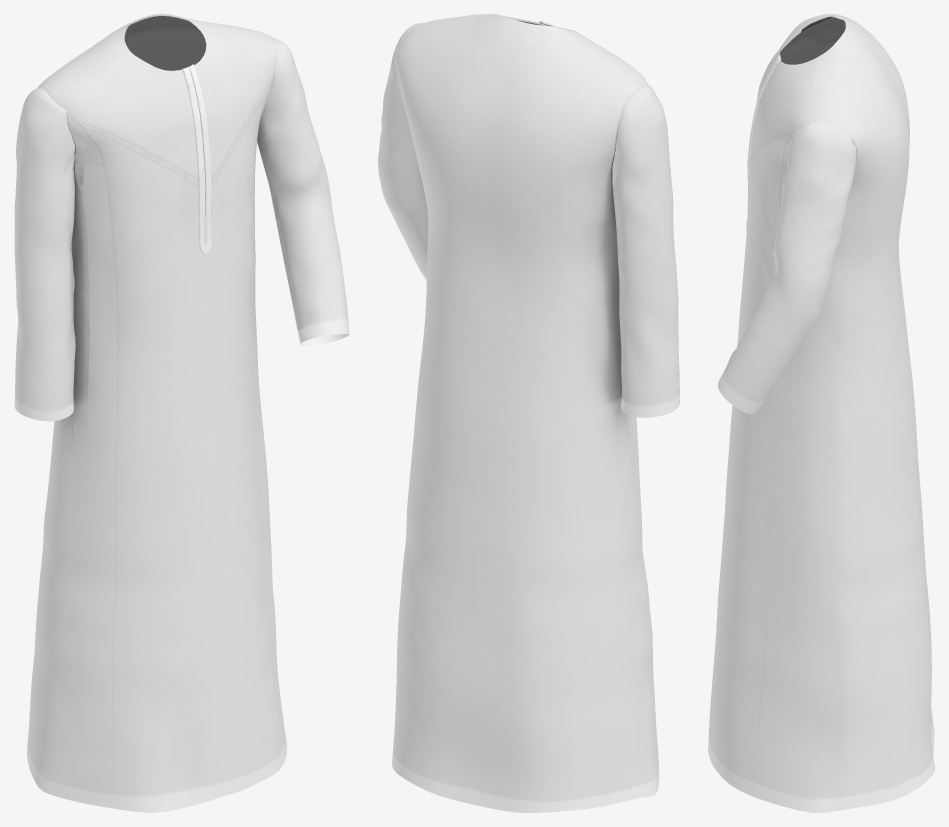
File: emirati(1).glb
3 renders of one model, left to right at view 1: azimuth 30°, elevation 25°; view 2: azimuth 150°, elevation 25°; view 3: azimuth 270°, elevation 25°, orthographic. The views are drawn at different scales.
Visible parts, largest first — view 1: retopo.003, retopo.002, retopo.004, Plane.008, Plane.013; view 2: retopo.003, retopo.002; view 3: retopo.003, retopo.002, retopo.004, Plane.008.
Boxes of the visible parts, x1,y1,x2,y2 form: retopo.003: (27, 14, 287, 812); retopo.002: (14, 37, 349, 421); retopo.004: (124, 16, 206, 70); Plane.008: (182, 64, 212, 256); Plane.013: (82, 65, 279, 187); retopo.003: (392, 14, 659, 812); retopo.002: (378, 22, 679, 417); retopo.003: (708, 14, 934, 812); retopo.002: (718, 16, 856, 413); retopo.004: (780, 17, 845, 64); Plane.008: (746, 54, 781, 233).
Size of the model in its own units: 0.765 by 1.82 by 0.5116.
Materials: 3 (2 with a texture image).
